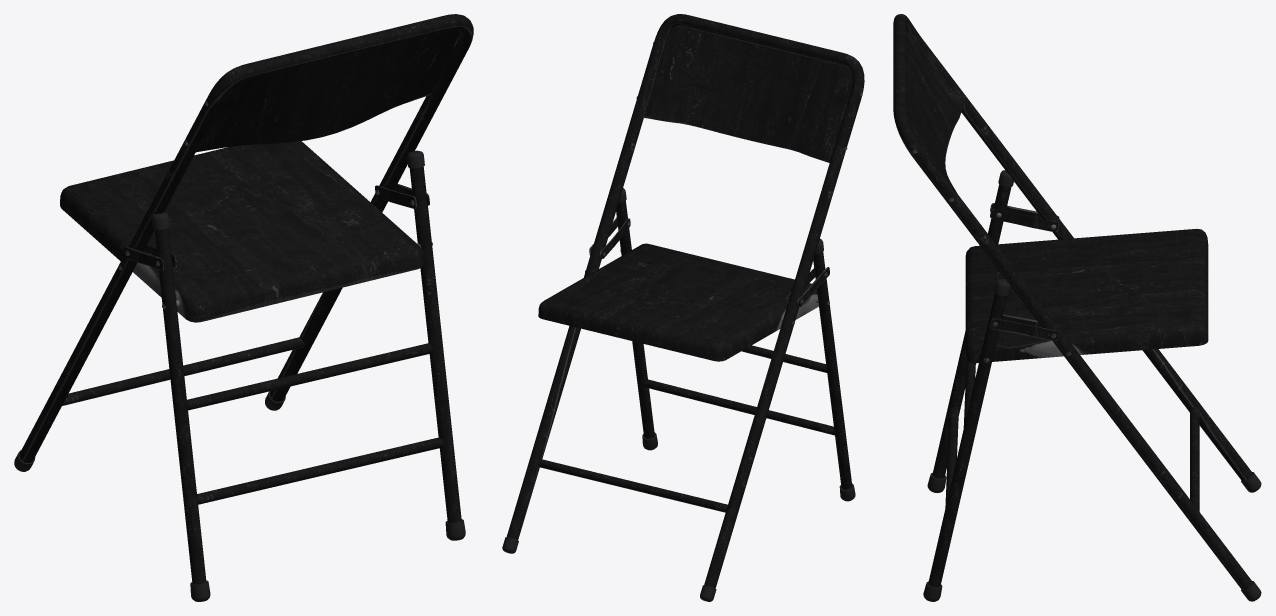
File: FoldingChair_01.fbx
3 renders of one model, left to right at view 1: azimuth 30°, elevation 25°; view 2: azimuth 150°, elevation 25°; view 3: azimuth 270°, elevation 25°, orthographic. The views are drawn at different scales.
Visible parts, largest first — view 1: pCube3, pPlane1, pCylinder5, pCylinder7, pCylinder6, pCylinder9, pCylinder10, pCylinder8; view 2: pCube3, pPlane1, pCylinder5, pCylinder7, pCylinder6, pCylinder8, pCylinder9, pCylinder10; view 3: pCube3, pCylinder5, pPlane1, pCylinder6, pCylinder7, pCylinder8, pCylinder9, pCube5, pCube1.
Boxes of the visible parts, <box> form: pCube3: <box>60,141,424,322</box>; pPlane1: <box>196,29,459,152</box>; pCylinder5: <box>14,14,473,471</box>; pCylinder7: <box>151,212,210,601</box>; pCylinder6: <box>407,150,465,540</box>; pCylinder9: <box>197,437,443,504</box>; pCylinder10: <box>187,343,433,410</box>; pCylinder8: <box>62,337,305,405</box>; pCube3: <box>538,243,818,361</box>; pPlane1: <box>643,25,852,162</box>; pCylinder5: <box>502,14,864,601</box>; pCylinder7: <box>813,238,855,501</box>; pCylinder6: <box>616,188,657,450</box>; pCylinder8: <box>538,459,727,512</box>; pCylinder9: <box>643,379,834,435</box>; pCylinder10: <box>742,345,827,372</box>; pCube3: <box>965,229,1208,363</box>; pCylinder5: <box>893,14,1261,601</box>; pPlane1: <box>906,30,963,192</box>; pCylinder6: <box>923,279,1010,601</box>; pCylinder7: <box>927,170,1013,492</box>; pCylinder8: <box>1190,408,1199,511</box>; pCylinder9: <box>945,407,958,507</box>; pCube5: <box>990,208,1059,232</box>; pCube1: <box>990,318,1059,341</box>.
Bounding box in the file's own units: 47.1 × 90.61 × 62.27.
